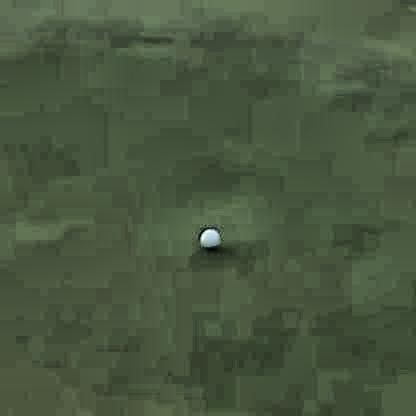golfball: (198, 223, 216, 245)
